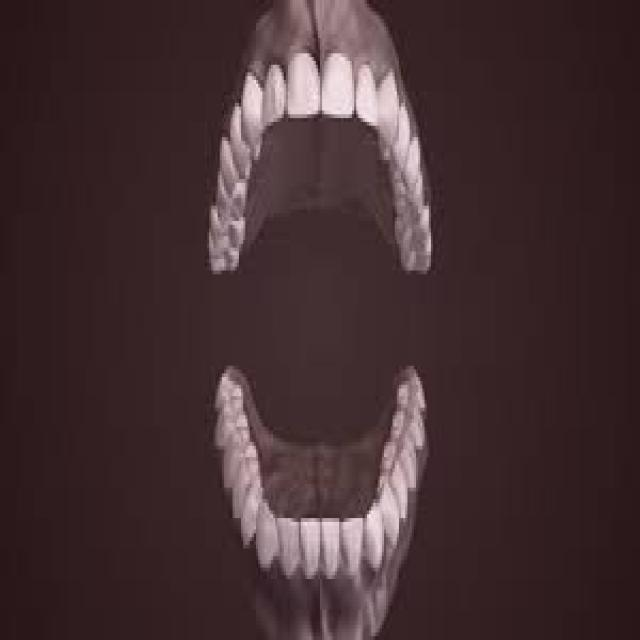tooth: (286, 57, 320, 122), (324, 53, 352, 118), (256, 503, 279, 571), (356, 68, 380, 130), (279, 518, 301, 579), (267, 65, 288, 122), (382, 76, 399, 145), (369, 503, 388, 564), (299, 522, 322, 571), (322, 526, 344, 575), (241, 499, 260, 549), (244, 84, 262, 133), (339, 522, 358, 560)
